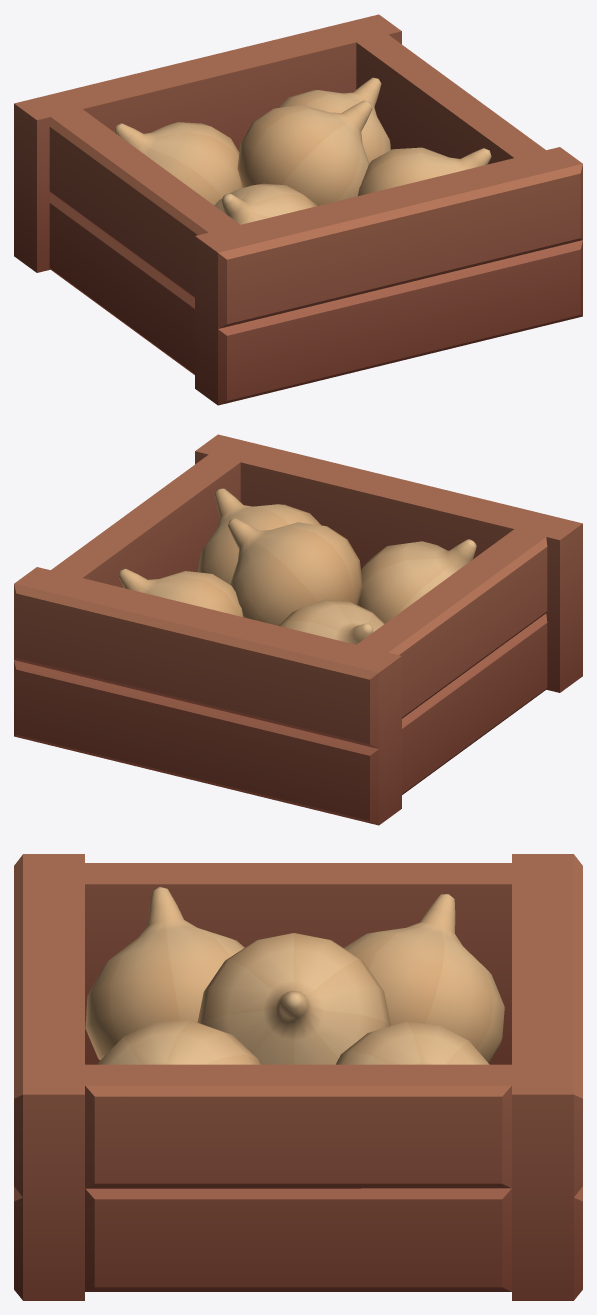
File: re-crate_onions.glb
3 renders of one model, top to bottom at view 1: azimuth 30°, elevation 25°; view 2: azimuth 150°, elevation 25°; view 3: azimuth 270°, elevation 25°, orthographic. The views are drawn at different scales.
Parts seen in each view (by area): view 1: crate_onions; view 2: crate_onions; view 3: crate_onions.
Boxes of the visible parts, left/top/right/bottom form: crate_onions: left=14, top=14, right=582, bottom=405; crate_onions: left=14, top=434, right=582, bottom=825; crate_onions: left=14, top=854, right=582, bottom=1300.
Bounding box in the file's own units: 2 × 0.9234 × 2.
1 material, 1 textured.
